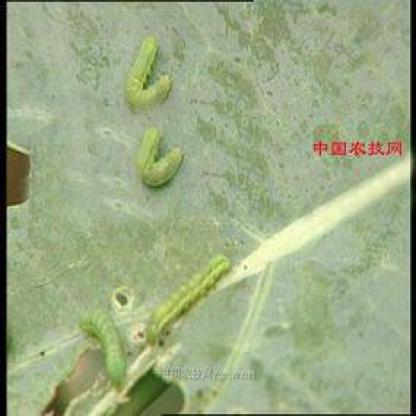armyworm: (150, 254, 232, 347), (78, 299, 128, 393), (124, 33, 175, 115), (137, 123, 183, 192)
